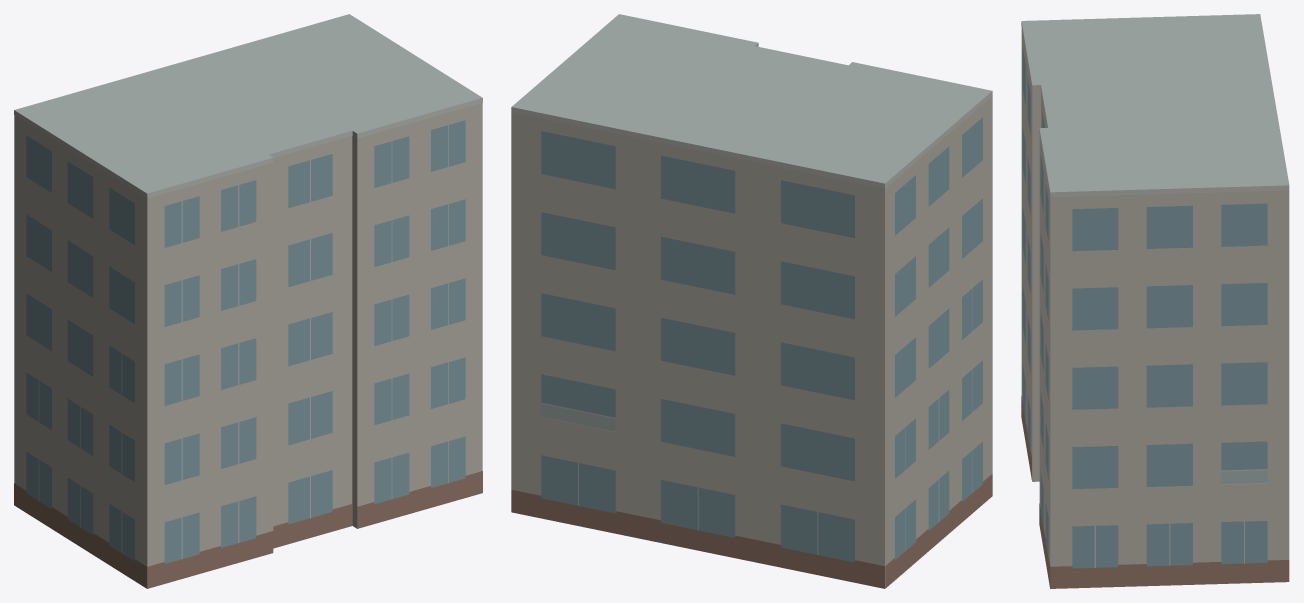
The model's file is survey-upis-32742101.glb.
3 views of the same model, side by side, from view 1: azimuth 30°, elevation 25°; view 2: azimuth 150°, elevation 25°; view 3: azimuth 270°, elevation 25° (orthographic). The views are drawn at different scales.
Visible parts, largest first — view 1: survey-upis-32742101.tmp; view 2: survey-upis-32742101.tmp; view 3: survey-upis-32742101.tmp.
Boxes of the visible parts, x1,y1,x2,y2 form: survey-upis-32742101.tmp: (14, 14, 482, 588); survey-upis-32742101.tmp: (511, 14, 992, 588); survey-upis-32742101.tmp: (1021, 14, 1289, 588).
Size of the model in its own units: 19.09 by 19.8 by 12.13.
